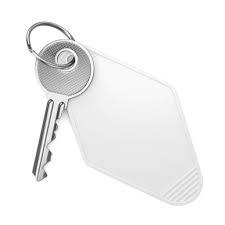key: (24, 37, 95, 187)
